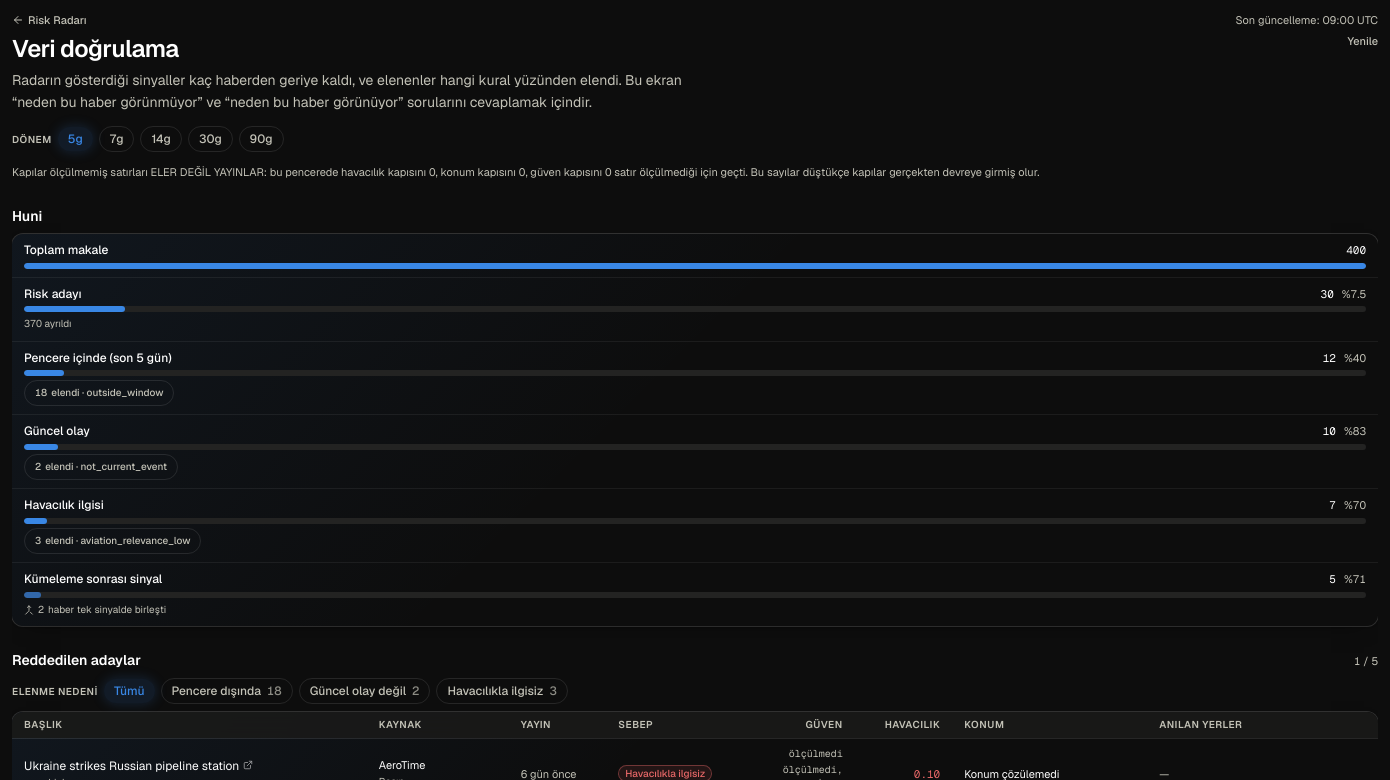
Test: RiskVerificationClient › says which reason came back empty when a filter is active
This screenshot has width=1390, height=780.
Expected: the text "Ukraine strikes Russian pipeline station" is shown, top-left (24, 758), bottom-right (239, 774)
Click the button "Güncel olay değil 2" at (365, 691), box top-left (299, 678), bottom-right (430, 704)
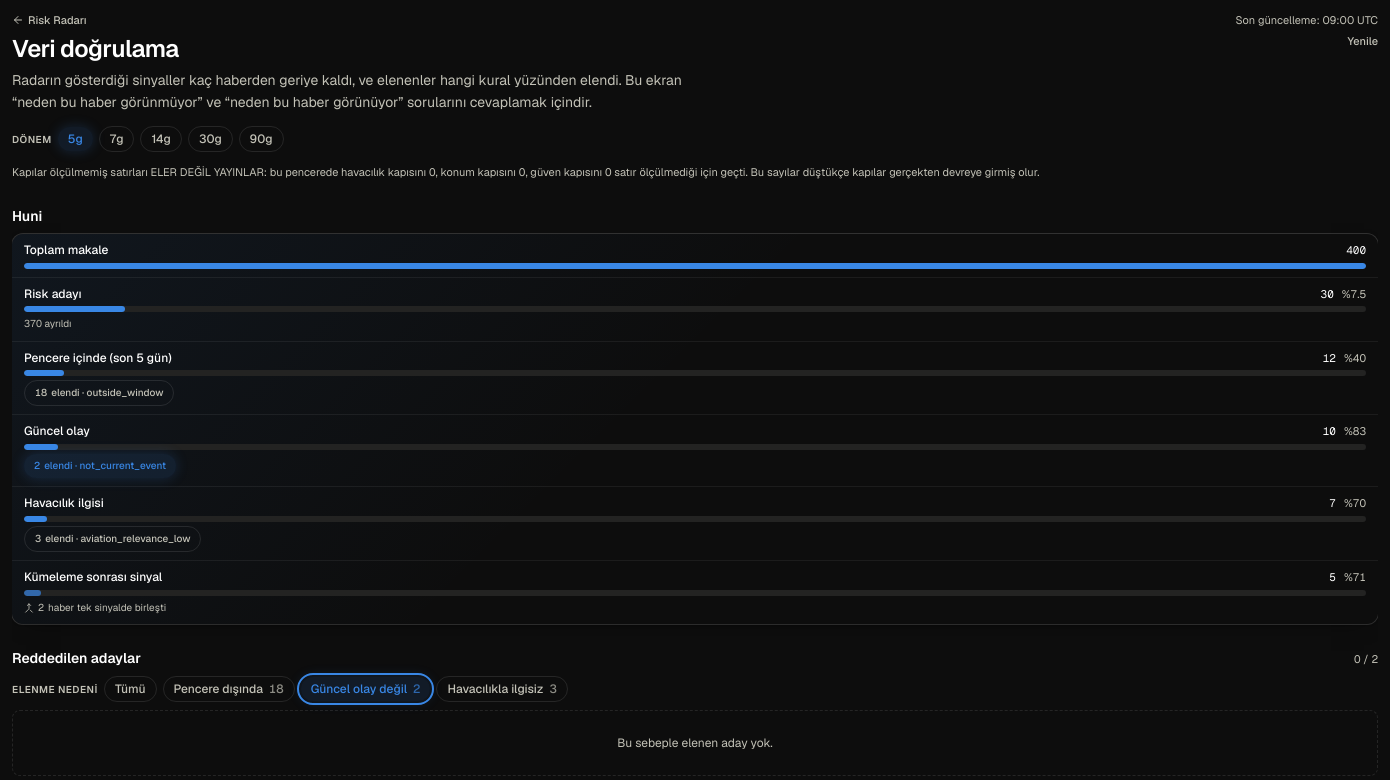
Expected: the text "Bu sebeple elenen aday yok." is shown, top-left (12, 710), bottom-right (1378, 776)
